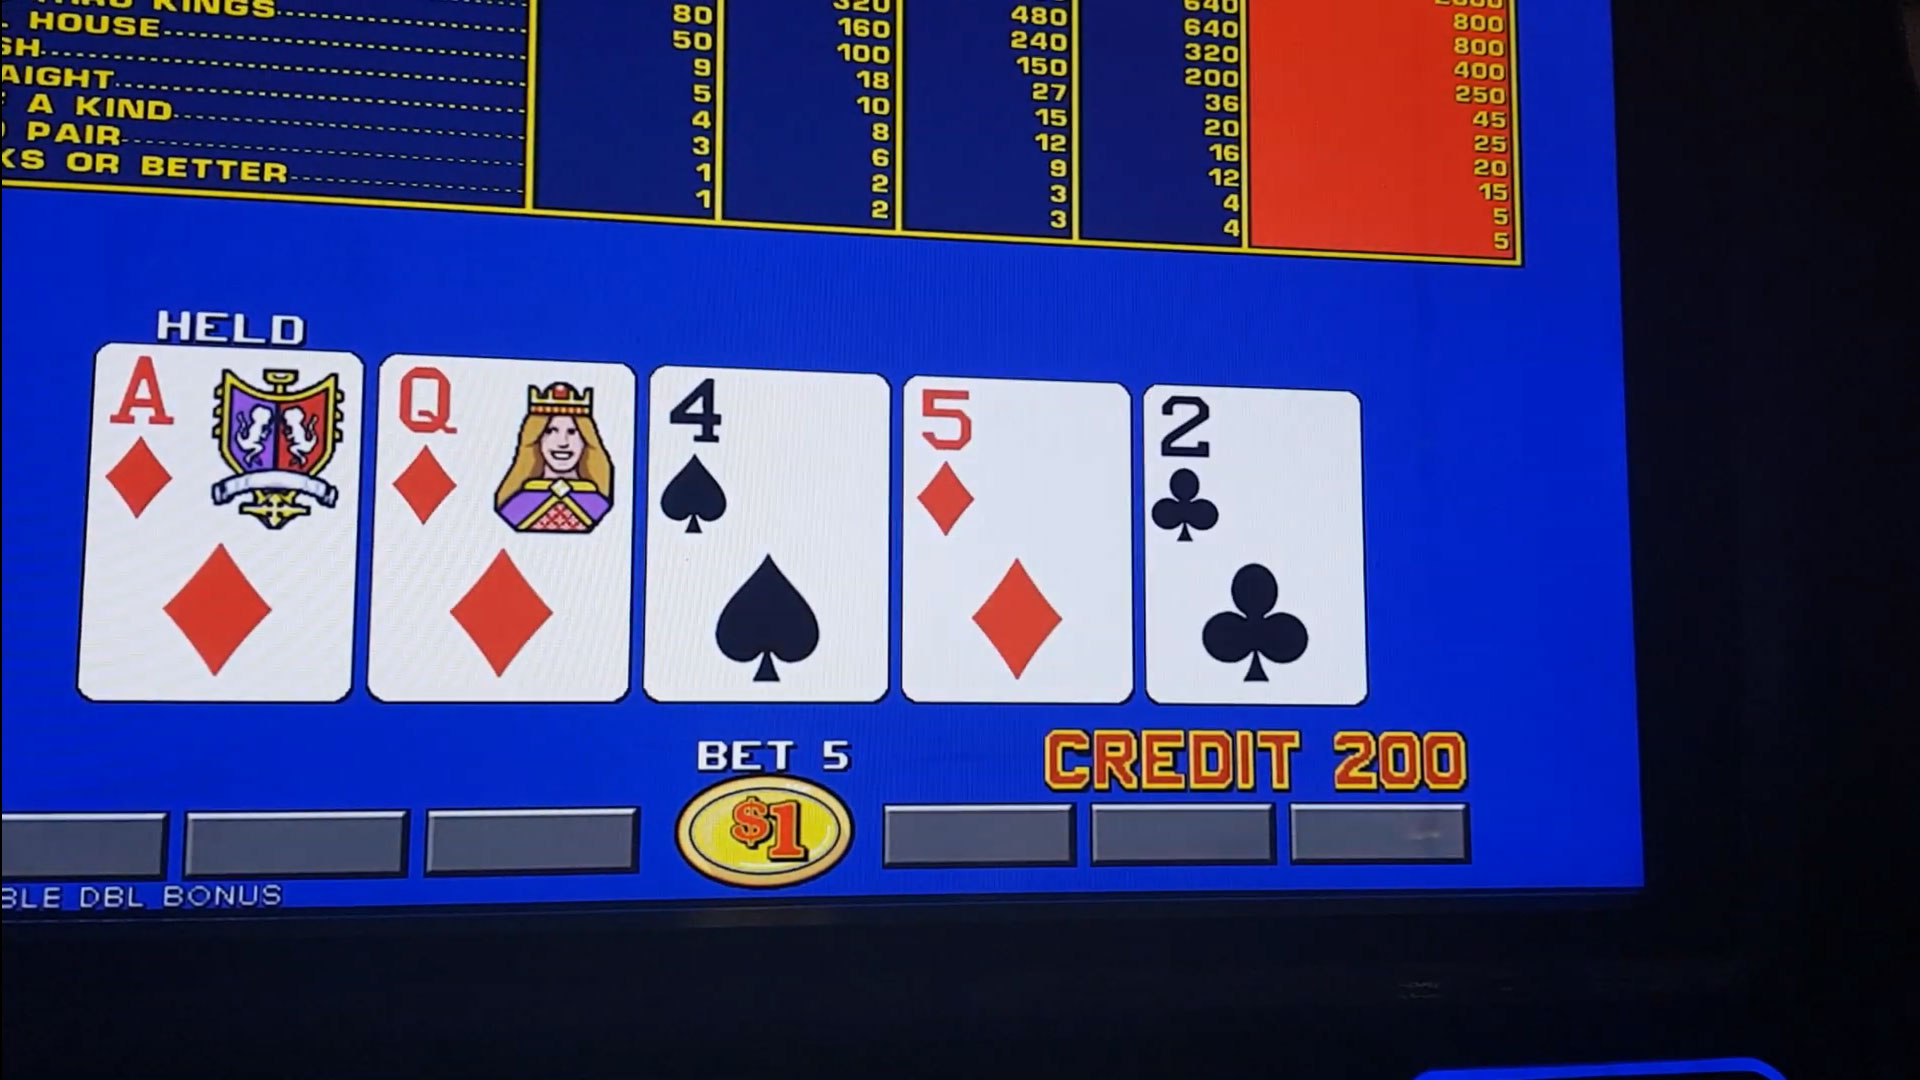C2: (1146, 397, 1360, 550)
D5: (909, 389, 1127, 549)
DA: (103, 349, 355, 522)
DQ: (385, 367, 624, 535)
S4: (651, 378, 885, 539)
